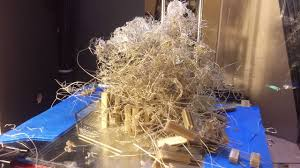fail: (53, 1, 246, 96), (116, 95, 237, 167), (1, 119, 48, 168), (62, 136, 106, 167)
